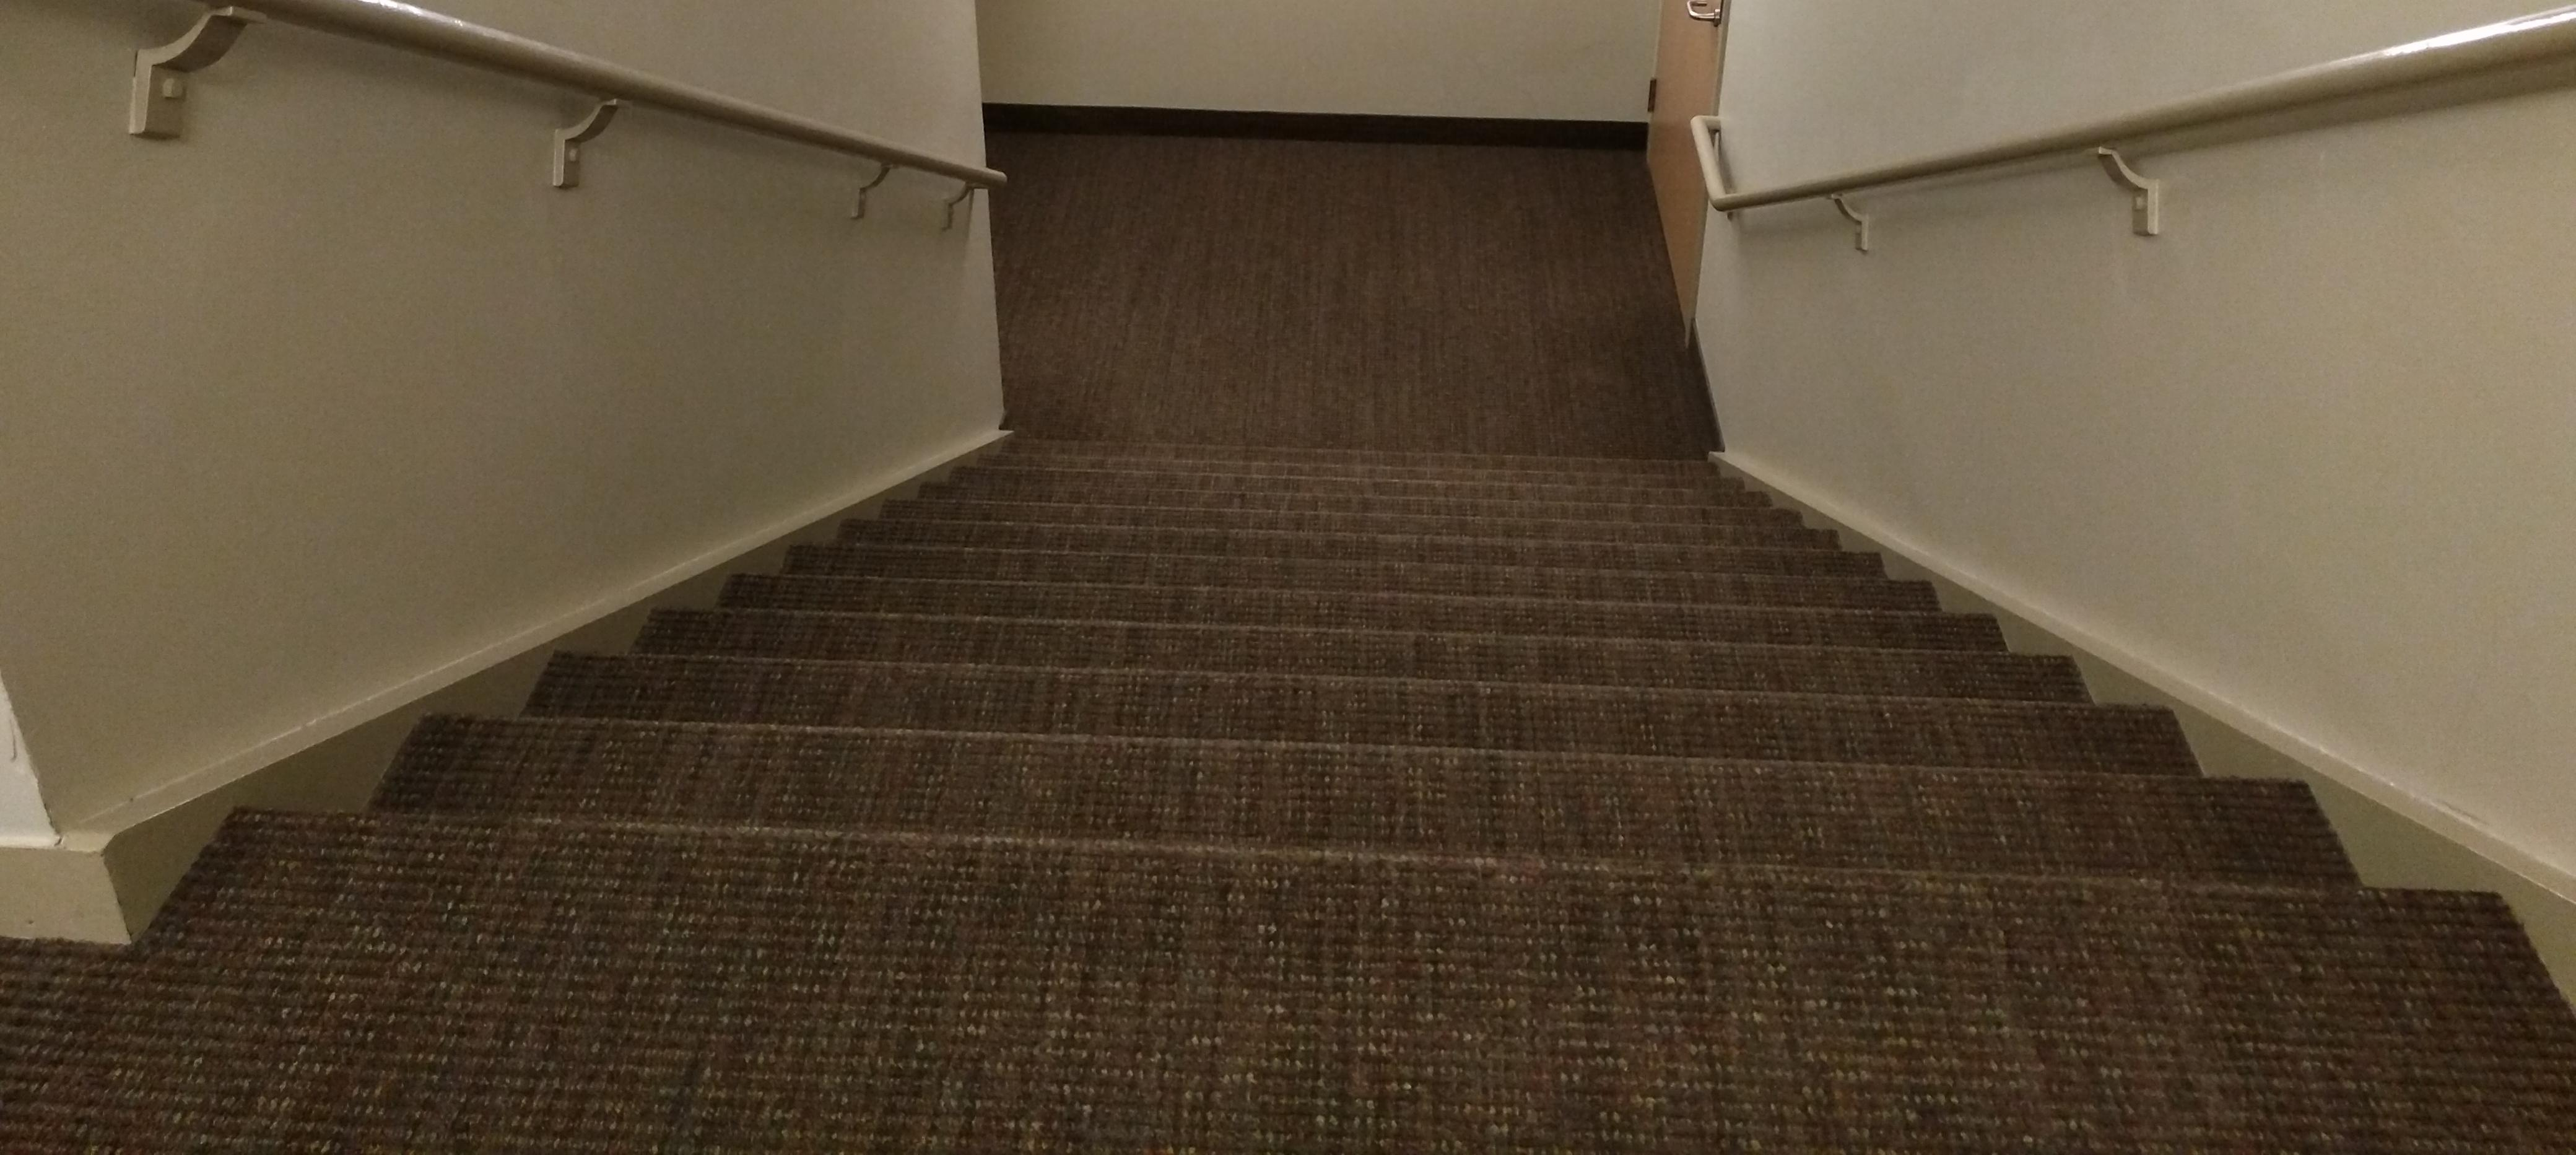stairs_down: (214, 403, 2530, 953)
